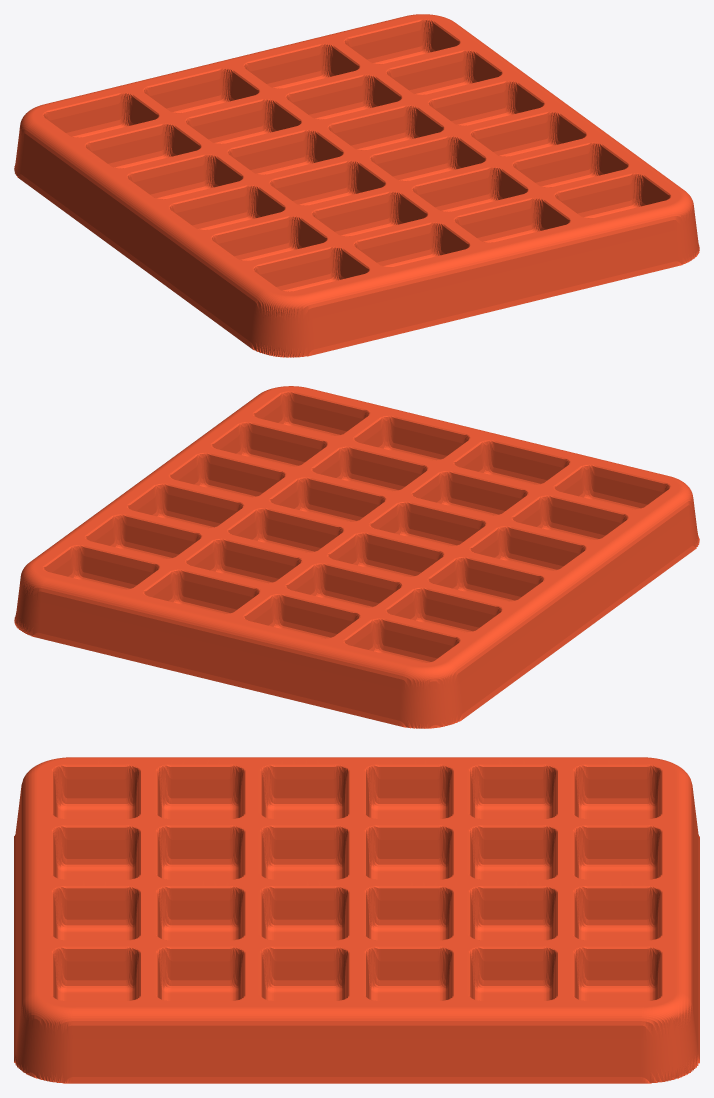
File: mold.glb
The picture shows the model from 3 angles, top to bottom: view 1: azimuth 30°, elevation 25°; view 2: azimuth 150°, elevation 25°; view 3: azimuth 270°, elevation 25°; orthographic projection. The views are drawn at different scales.
Parts seen in each view (by area): view 1: geometry_0; view 2: geometry_0; view 3: geometry_0.
Part boxes in pixels (<box>): geometry_0: <box>14,14,699,357</box>; geometry_0: <box>14,386,699,728</box>; geometry_0: <box>14,757,699,1083</box>.
Size of the model in its own units: 0.098 by 0.0114 by 0.1059.
